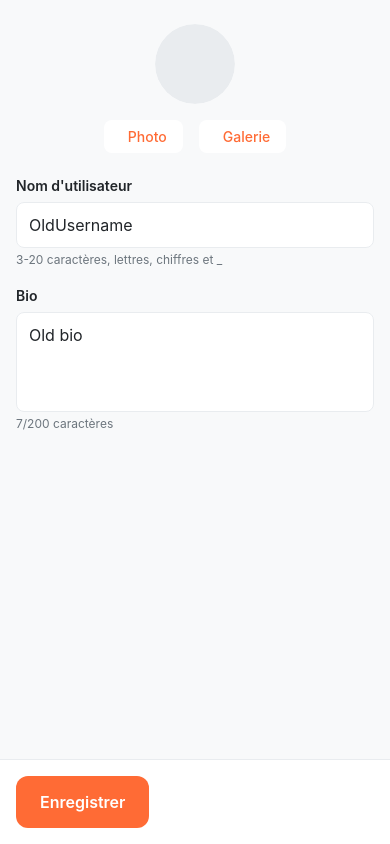
EditProfileScreen › clears error when user types after validation error
Replace the text in the field with test id "username-input" with "ab" at (195, 225), box [16,202,374,248]
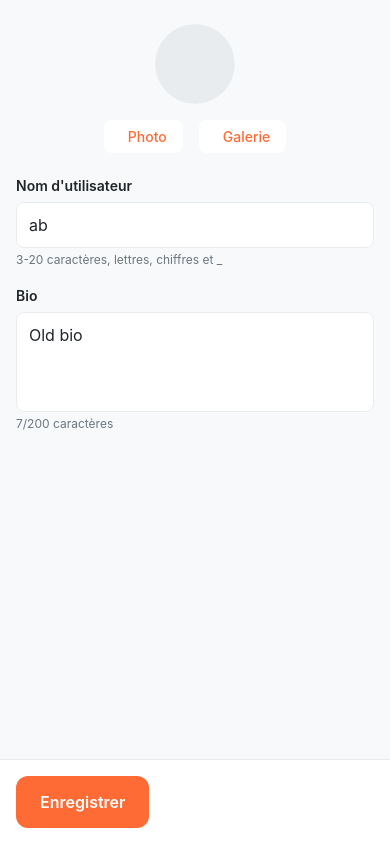
Click the element with test id "save-button" at (83, 802), box [16,776,149,828]
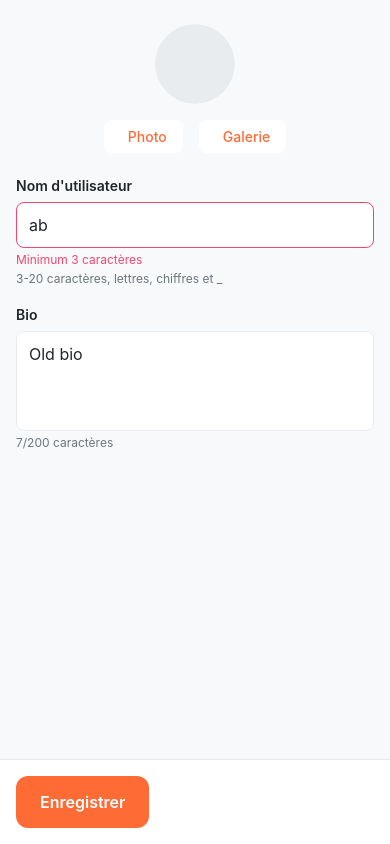
Check: the text "Minimum 3 caractères" is shown, box [16,252,142,267]
Replace the text in the field with test id "username-input" with "ValidUsername" at (195, 225), box [16,202,374,248]
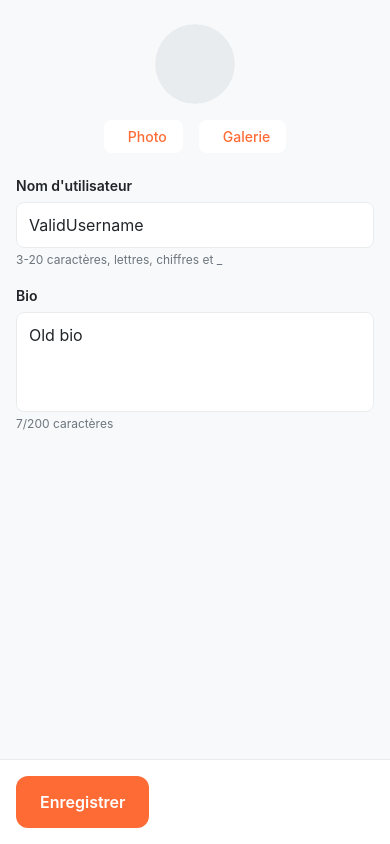
Check: the text with test id "username-error" is gone
